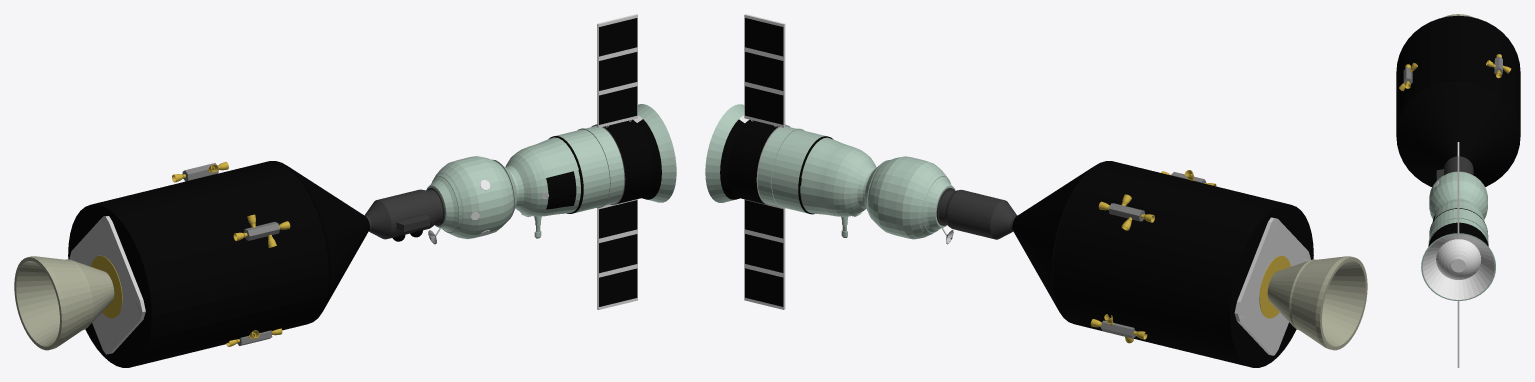
The model's file is soyuz.dae.
The picture shows the model from 3 angles, left to right: view 1: azimuth 30°, elevation 25°; view 2: azimuth 150°, elevation 25°; view 3: azimuth 270°, elevation 25°; orthographic projection. The views are drawn at different scales.
Visible parts, largest first — view 1: polySurfac; view 2: polySurfac; view 3: polySurfac.
Boxes of the visible parts, x1,y1,x2,y2 form: polySurfac: [14, 14, 676, 367]; polySurfac: [705, 14, 1367, 367]; polySurfac: [1396, 14, 1520, 367].
Size of the model in its own units: 2.16 by 0.5124 by 0.9634.
